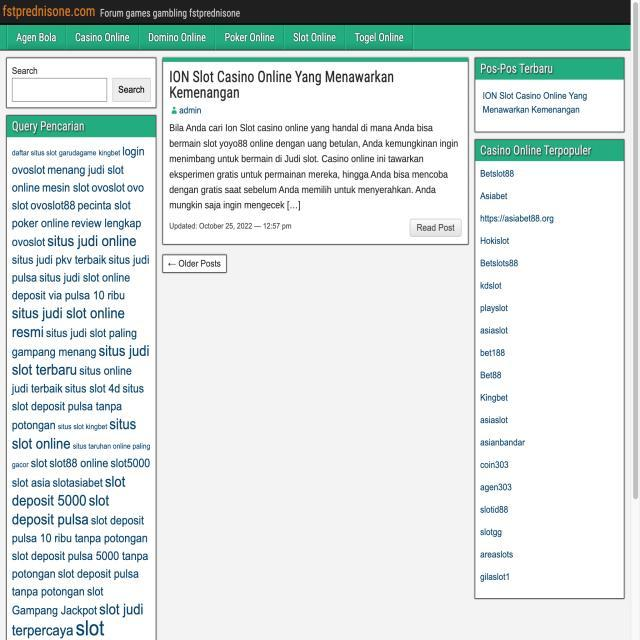button: (158, 252, 228, 276), (408, 216, 465, 239), (110, 75, 152, 104)
input field: (10, 76, 109, 104)
navigation bar: (3, 24, 415, 55)
text: (9, 141, 153, 640), (168, 65, 466, 243)
